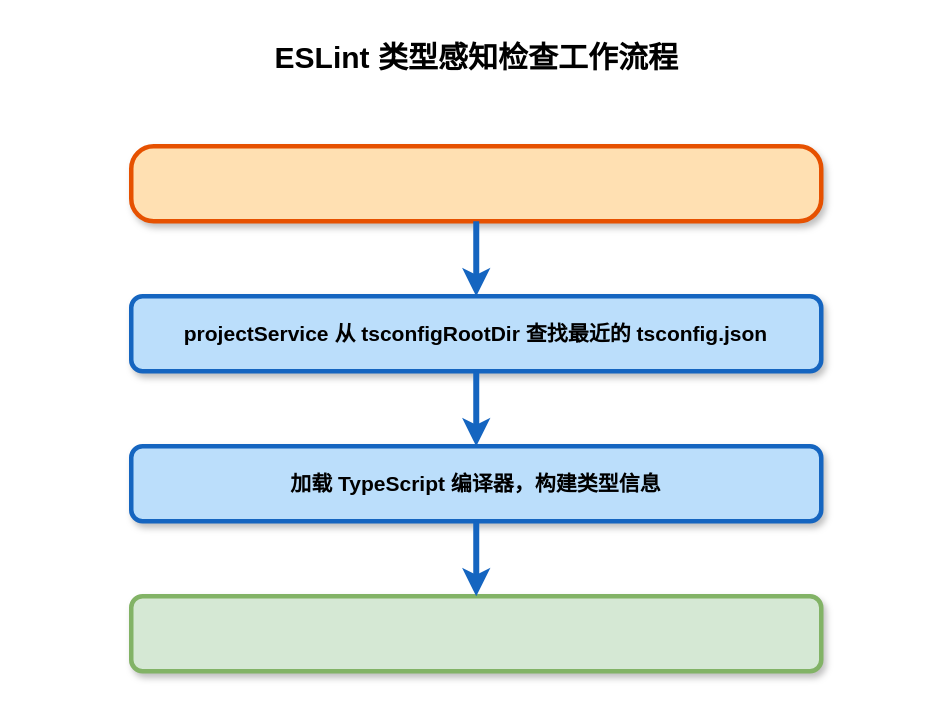
This 951x710 diagram has some shape labels left out. The shapes that lost their labels are listed below. From the top down, each one's centre as x and y in pixels, then its label:
(x=477, y=185): ESLint 扫描文件
(x=477, y=635): 类型感知规则获得完整类型，执行检查
